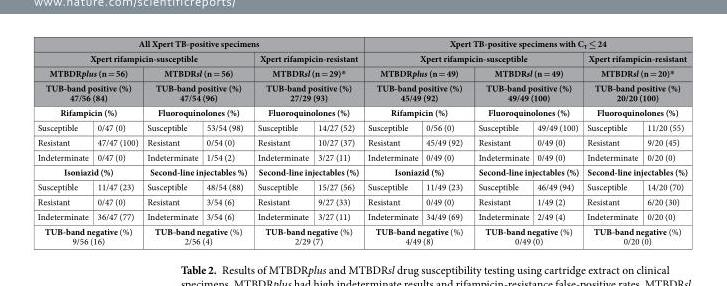table: (36, 36, 687, 246)
table column: (469, 36, 532, 246), (251, 36, 312, 246), (142, 36, 201, 246), (362, 36, 421, 246), (582, 36, 641, 246), (36, 36, 92, 246), (92, 36, 142, 246), (201, 36, 251, 246), (312, 36, 362, 246), (532, 36, 582, 246), (421, 36, 469, 246), (641, 36, 687, 246)
table column header: (36, 36, 687, 134)
table row: (36, 80, 687, 104), (36, 223, 687, 246), (36, 50, 687, 65), (36, 65, 687, 80), (36, 104, 687, 119), (36, 119, 687, 134), (36, 134, 687, 149), (36, 149, 687, 164), (36, 164, 687, 179), (36, 193, 687, 208), (36, 208, 687, 223), (36, 36, 687, 50), (36, 179, 687, 193)
table spanning cell: (251, 50, 362, 119), (582, 50, 687, 119), (469, 65, 582, 119), (142, 65, 251, 119), (362, 65, 469, 119), (36, 65, 142, 119), (36, 36, 362, 50), (362, 36, 687, 50), (362, 50, 582, 65), (36, 50, 251, 65), (469, 223, 582, 246), (251, 223, 362, 246), (142, 223, 251, 246), (362, 223, 469, 246), (36, 223, 142, 246), (582, 223, 687, 246), (469, 164, 582, 179), (251, 164, 362, 179), (142, 164, 251, 179), (362, 164, 469, 179), (36, 164, 142, 179), (582, 164, 687, 179)
